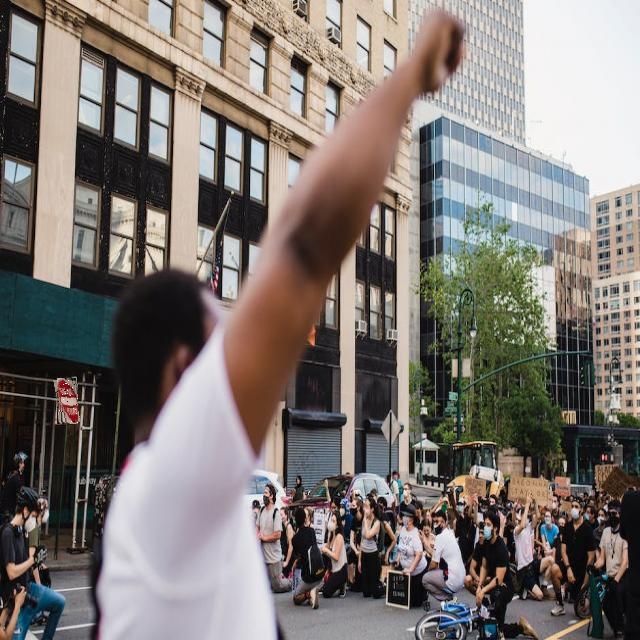no entry: (55, 378, 78, 424)
